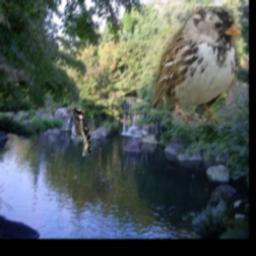Sparrow: (151, 6, 242, 127)
Woodpecker: (69, 106, 92, 156)
